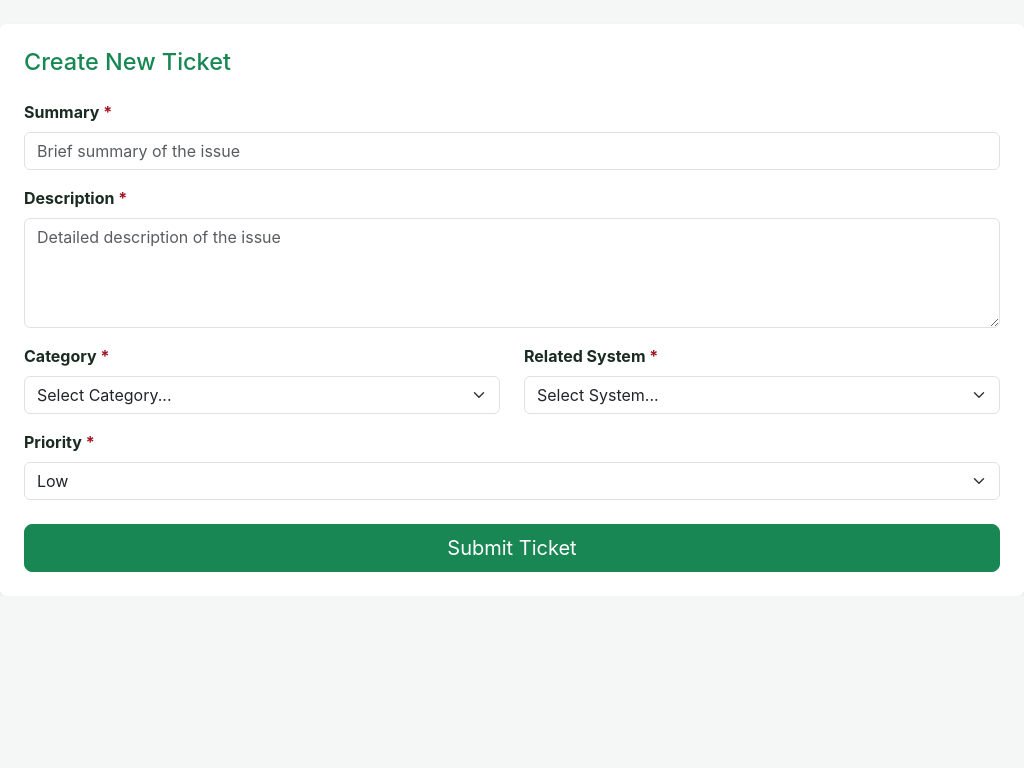
CreateTicketForm (Issue 10 UI tests) › UI-02: Form shows validation errors (red asterisks/text) when missing fields on submit
Check: the text "*" next to "Summary" is shown, box x1=103 y1=102 x2=112 y2=122
Submit without filling anything
Click the button "Submit Ticket" at (512, 548), box x1=24 y1=524 x2=1000 y2=572
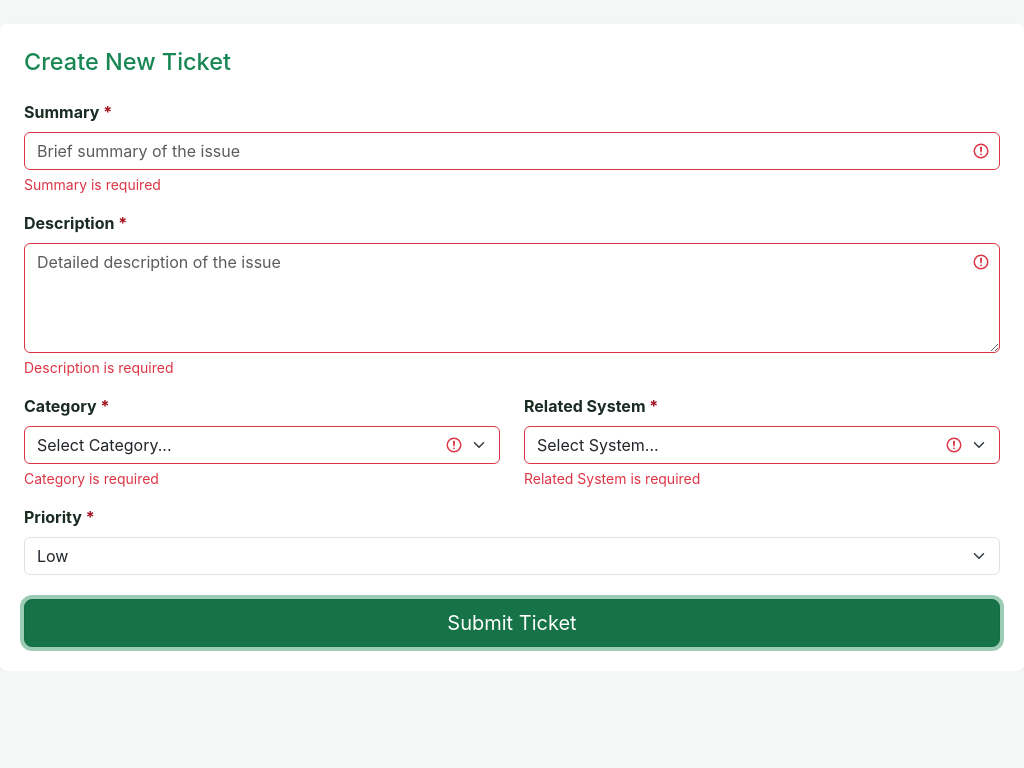
Check: the text "Summary is required" is shown, box x1=24 y1=176 x2=161 y2=193
Check: the text "Description is required" is shown, box x1=24 y1=359 x2=174 y2=376
Check: the text "Category is required" is shown, box x1=24 y1=470 x2=159 y2=487
